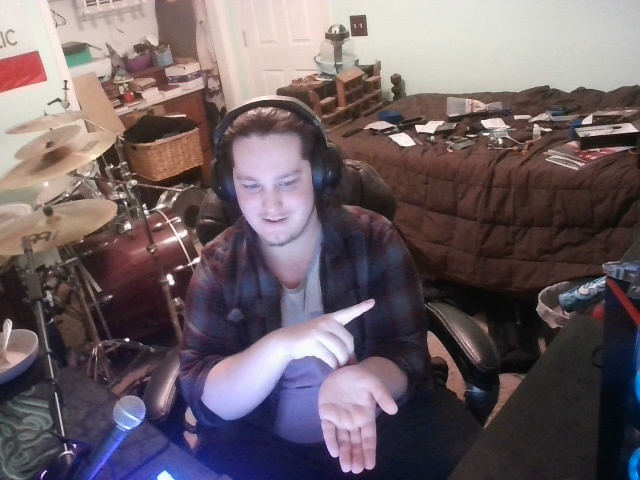doctor: (270, 296, 416, 480)
